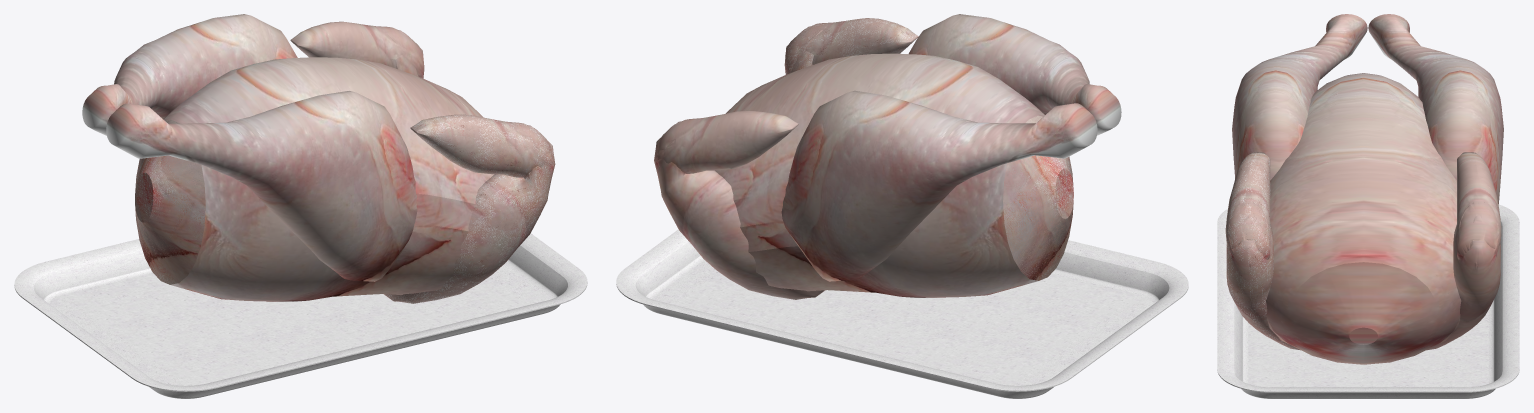
The model's file is model_raw.dae.
3 views of the same model, side by side, from view 1: azimuth 30°, elevation 25°; view 2: azimuth 150°, elevation 25°; view 3: azimuth 270°, elevation 25° (orthographic). The views are drawn at different scales.
Visible parts, largest first — view 1: group_1, Component_1 (×2), group_0, Component_3 (×2); view 2: group_1, Component_1 (×2), group_0, Component_3 (×2); view 3: group_0, group_1, Component_1 (×2), Component_3 (×2).
Boxes of the visible parts, box(x1,y1,x2,y2) form: group_1: box(14, 233, 587, 398); Component_1 (×2): box(82, 14, 417, 281); group_0: box(135, 57, 494, 301); Component_3 (×2): box(290, 21, 555, 303); group_1: box(616, 229, 1188, 398); Component_1 (×2): box(781, 14, 1121, 281); group_0: box(714, 53, 1073, 297); Component_3 (×2): box(654, 18, 918, 299); group_0: box(1266, 73, 1461, 364); group_1: box(1217, 204, 1519, 398); Component_1 (×2): box(1232, 14, 1503, 203); Component_3 (×2): box(1225, 152, 1501, 350).
Size of the model in its own units: 16.79 by 11.16 by 9.06.
Materials: 3 (3 with a texture image).
